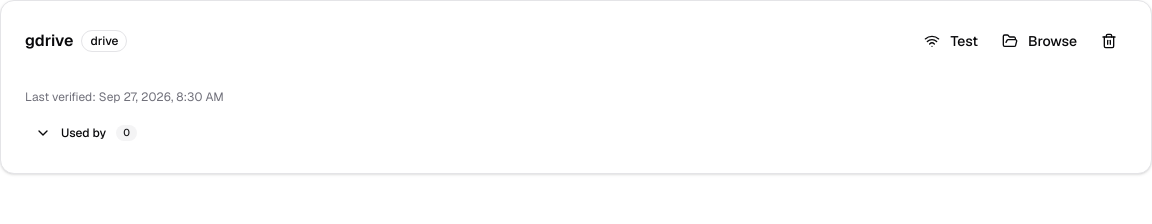
Test: RemoteCard › a test shows success with the latency
The image size is (1152, 224).
Expected: the text "Last verified: Sep 27, 2026, 8:30 AM" is shown, [25,89,224,105]
Step 1. Click the button "Test" → (951, 41), box [914,25,988,57]
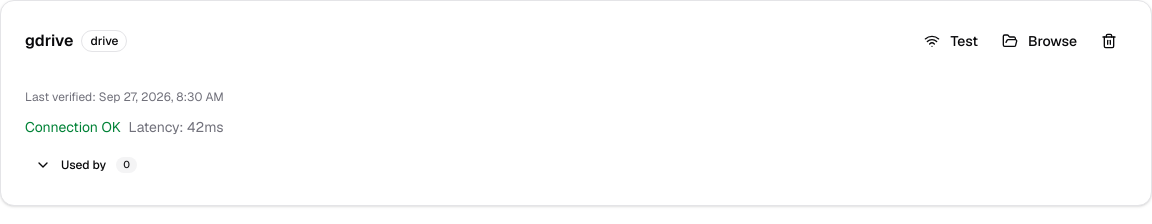
Expected: the text "Connection OK" is shown, [25,118,121,136]
Expected: the text "Latency: 42ms" is shown, [129,118,224,136]
